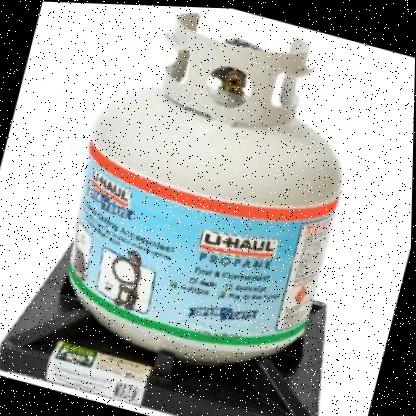gas-tank: (30, 1, 395, 411)
